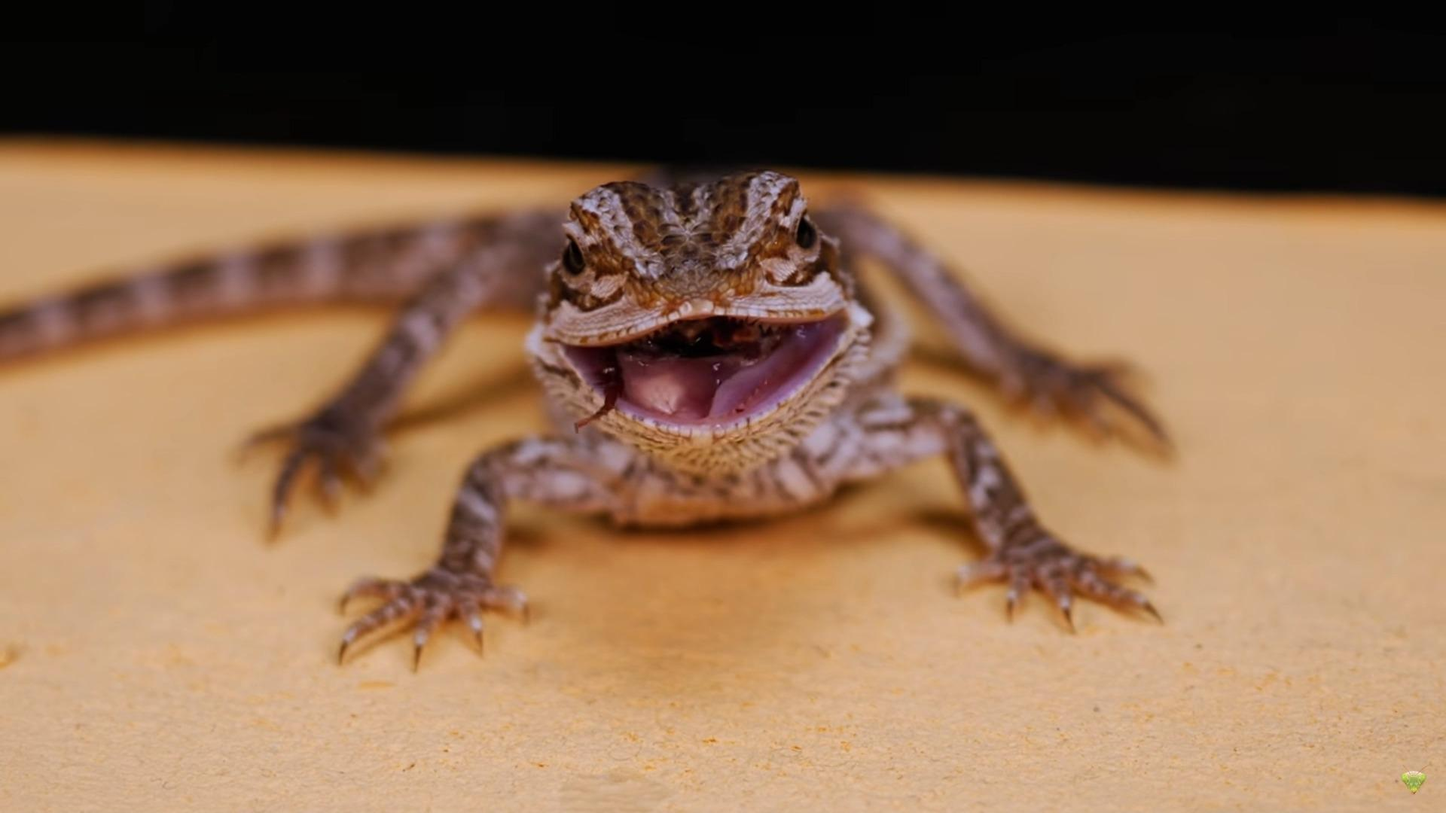cockroach: (555, 331, 803, 437)
lizard: (347, 177, 1157, 693)
